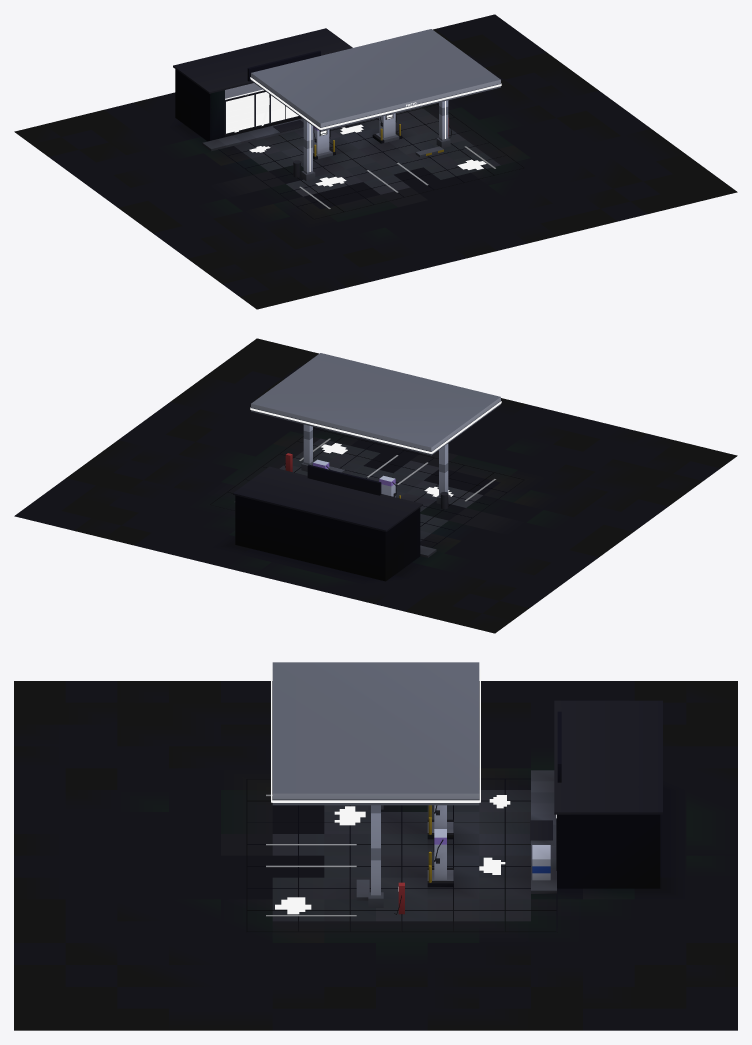
The model's file is posto-loja.glb.
3 views of the same model, one above another, from view 1: azimuth 30°, elevation 25°; view 2: azimuth 150°, elevation 25°; view 3: azimuth 270°, elevation 25° (orthographic). The views are drawn at different scales.
Visible parts, largest first — view 1: sala_solido, sala_luz, sala_vidro, sala_neon; view 2: sala_solido, sala_neon; view 3: sala_solido, sala_vidro, sala_neon.
Boxes of the visible parts, x1,y1,x2,y2 form: sala_solido: (14,14,737,309); sala_luz: (226,92,392,135); sala_vidro: (234,94,486,186); sala_neon: (225,77,501,171); sala_solido: (14,338,737,633); sala_neon: (250,401,501,453); sala_solido: (14,662,737,1030); sala_vidro: (275,795,510,914); sala_neon: (271,668,556,818).
Size of the model in its own units: 32 by 5.45 by 28.
